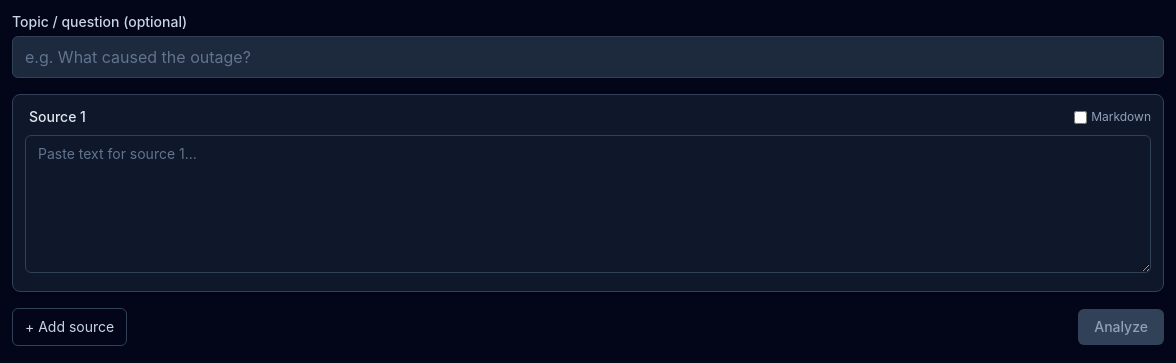
SourceEditor › disables Analyze until a source has text
Expected: the button "Analyze" is disabled, [1078,309,1164,345]
In the text box with placeholder "Paste text for source 1...": (588,204) [25,135,1151,273], type "hello"
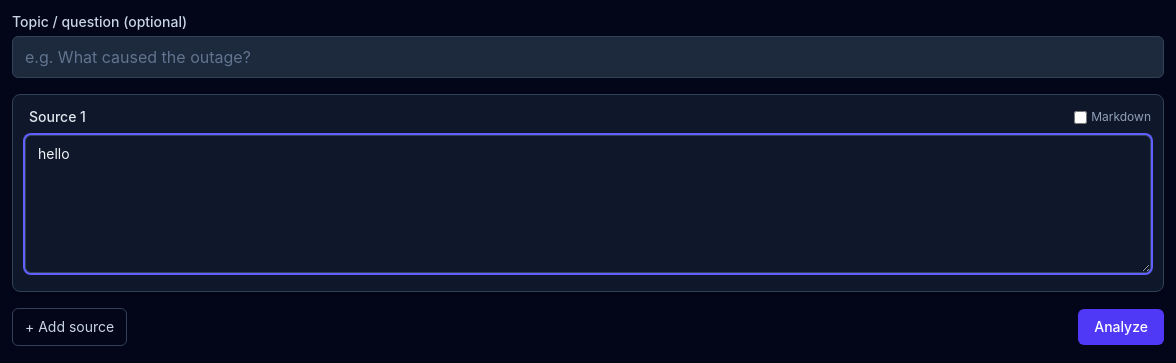
Now the button "Analyze" is enabled, box [1078,309,1164,345]
